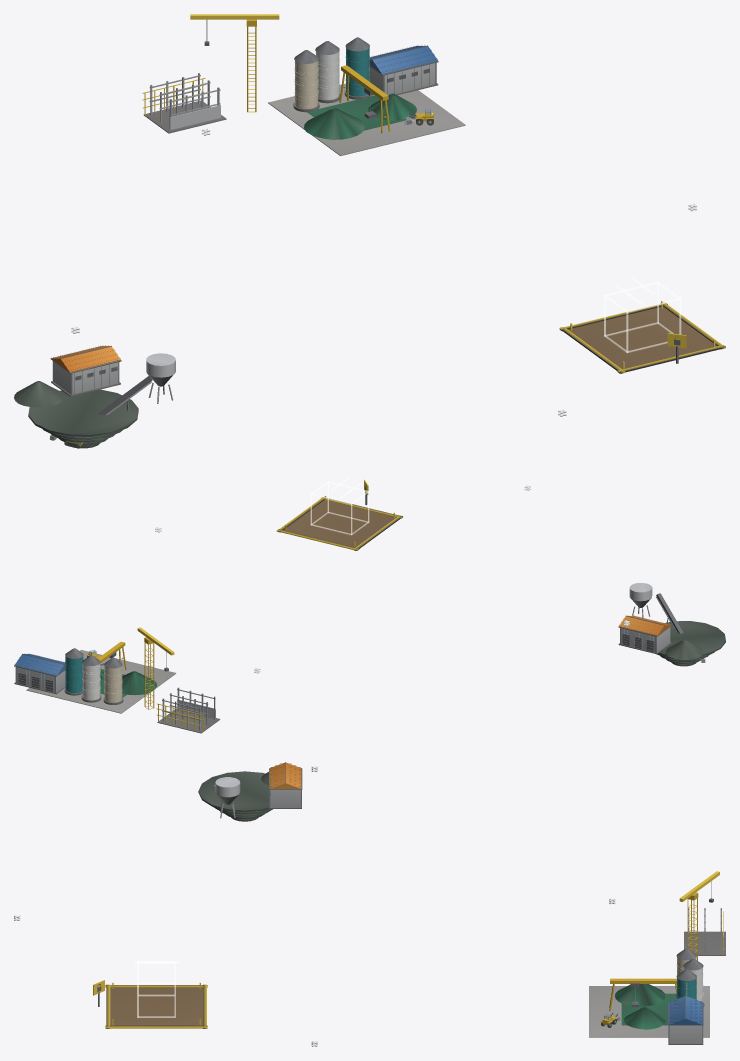
Rendered from Sites_P2.fbx.
3 views of the same model, one above another, from view 1: azimuth 30°, elevation 25°; view 2: azimuth 150°, elevation 25°; view 3: azimuth 270°, elevation 25° (orthographic). The views are drawn at different scales.
Visible parts, largest first — view 1: Site.plant.Pad, Site.Store.Yard, Site.Quarry.Benches, Site.Construction, Site.Store.Shed, Site.Quarry.Shed, Site.Store.Silo0, Site.Store.Pile0, Site.Store.Silo1, Site.Crane, Site.plant.Ghost, Site.Store.Silo2 (+4 smaller); view 2: Site.plant.Pad, Site.Construction, Site.Store.Yard, Site.Store.Shed, Site.Quarry.Shed, Site.Quarry.Benches, Site.Store.Silo1, Site.Store.Silo0, Site.Crane, Site.Store.Silo2, Site.plant.Ghost, Site.Store.Pile0 (+2 smaller); view 3: Site.plant.Pad, Site.Store.Yard, Site.Quarry.Benches, Site.Store.Shed, Site.Quarry.Shed, Site.Construction, Site.Store.Pile0, Site.Crane, Site.Store.Pile1, Site.Quarry.Hopper, Site.plant.Ghost, Site.Store.Gantry (+1 smaller).
Boxes of the visible parts, left/top/right/bottom form: Site.plant.Pad: left=559, top=301, right=725, bottom=373; Site.Store.Yard: left=268, top=83, right=465, bottom=155; Site.Quarry.Benches: left=28, top=389, right=138, bottom=448; Site.Construction: left=142, top=73, right=226, bottom=133; Site.Store.Shed: left=369, top=45, right=438, bottom=95; Site.Quarry.Shed: left=50, top=345, right=121, bottom=396; Site.Store.Silo0: left=293, top=50, right=319, bottom=112; Site.Store.Pile0: left=304, top=108, right=364, bottom=139; Site.Store.Silo1: left=315, top=41, right=340, bottom=103; Site.Crane: left=190, top=14, right=279, bottom=112; Site.plant.Ghost: left=604, top=277, right=681, bottom=353; Site.Store.Silo2: left=344, top=37, right=369, bottom=99; Site.plant.Pad: left=276, top=496, right=402, bottom=550; Site.Construction: left=156, top=687, right=220, bottom=733; Site.Store.Yard: left=26, top=650, right=176, bottom=713; Site.Store.Shed: left=14, top=653, right=65, bottom=694; Site.Quarry.Shed: left=618, top=615, right=672, bottom=654; Site.Quarry.Benches: left=657, top=621, right=725, bottom=666; Site.Store.Silo1: left=81, top=655, right=101, bottom=702; Site.Store.Silo0: left=103, top=658, right=123, bottom=704; Site.Crane: left=137, top=627, right=174, bottom=709; Site.Store.Silo2: left=64, top=648, right=83, bottom=695; Site.plant.Ghost: left=310, top=477, right=369, bottom=535; Site.Store.Pile0: left=122, top=671, right=156, bottom=695; Site.plant.Pad: left=105, top=982, right=207, bottom=1028; Site.Store.Yard: left=589, top=986, right=709, bottom=1037; Site.Quarry.Benches: left=198, top=771, right=272, bottom=821; Site.Store.Shed: left=668, top=995, right=703, bottom=1044; Site.Quarry.Shed: left=269, top=762, right=302, bottom=808; Site.Construction: left=684, top=908, right=725, bottom=955; Site.Store.Pile0: left=614, top=984, right=665, bottom=1006; Site.Crane: left=679, top=871, right=719, bottom=960; Site.Store.Pile1: left=624, top=1007, right=665, bottom=1029; Site.Quarry.Hopper: left=215, top=777, right=240, bottom=818; Site.plant.Ghost: left=134, top=961, right=179, bottom=1017; Site.Store.Gantry: left=609, top=978, right=676, bottom=1011.
Bounding box in the file's own units: 29134 × 4881 × 30622.
